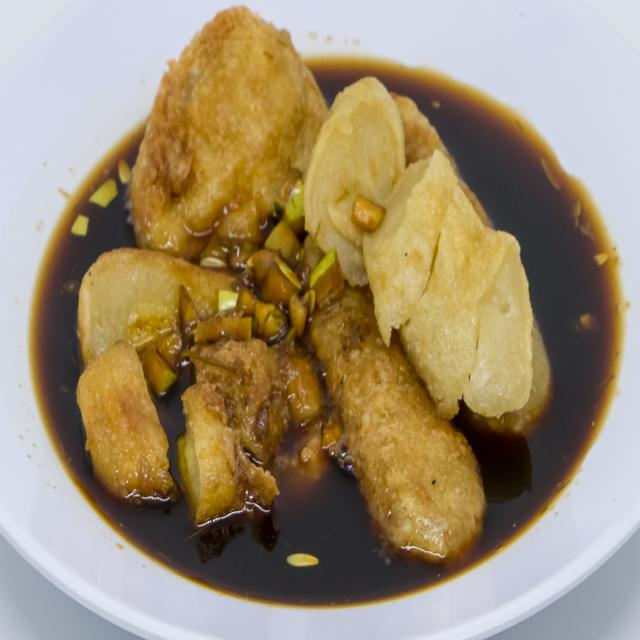Pempek-Palembang: (71, 2, 563, 587)
